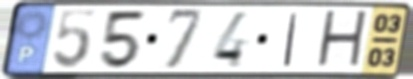4: (207, 9, 252, 70)
5: (96, 8, 155, 71), (50, 7, 103, 72)
7: (164, 7, 204, 73)
H: (313, 8, 371, 72)
I: (280, 11, 301, 68)
